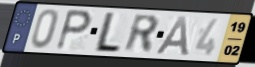0: (29, 8, 61, 51)
4: (192, 17, 221, 59)
A: (154, 14, 191, 58)
L: (91, 11, 123, 55)
P: (54, 7, 95, 52)
R: (122, 13, 161, 55)
